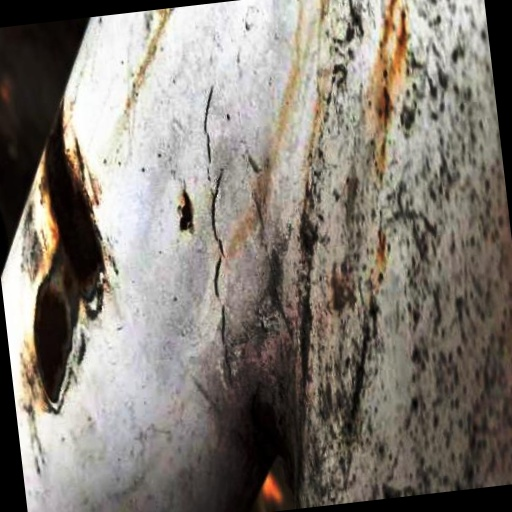crack: (159, 75, 262, 390)
